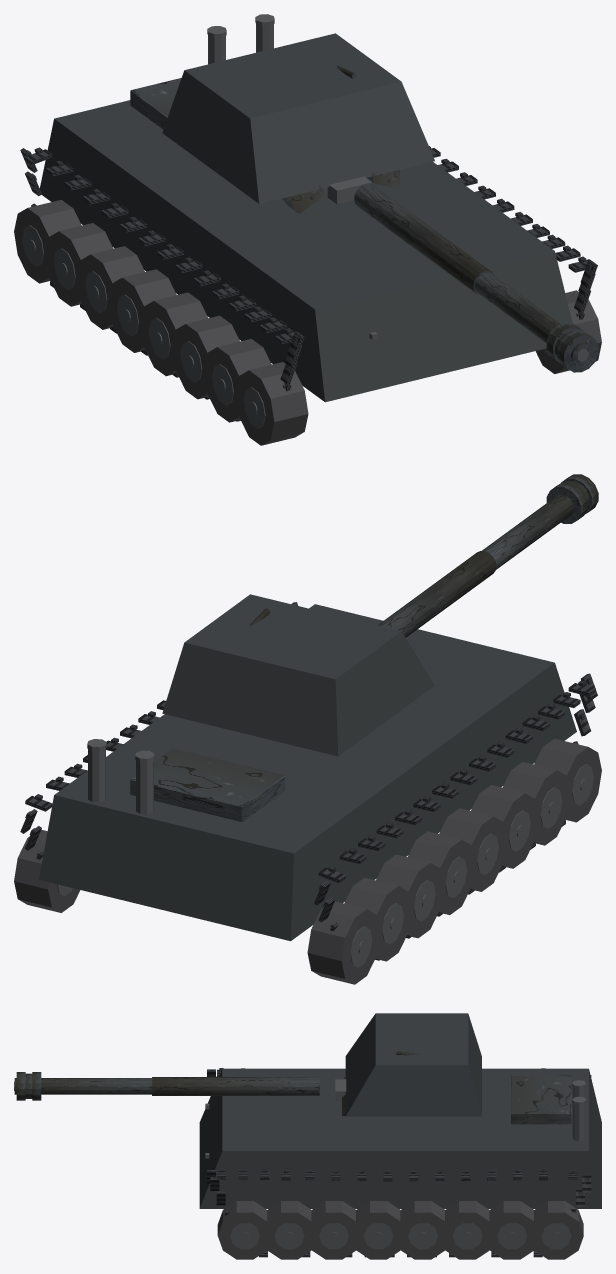
The model's file is ironwolf_LOD1.glb.
The picture shows the model from 3 angles, top to bottom: view 1: azimuth 30°, elevation 25°; view 2: azimuth 150°, elevation 25°; view 3: azimuth 270°, elevation 25°; orthographic projection. The views are drawn at different scales.
Visible parts, largest first — view 1: HullMesh, TurretMesh, Wheels_L, TrackL, Gun_tube1, TrackR, Gun_tube2, Wheels_R, Gun_brk1; view 2: HullMesh, TurretMesh, Wheels_L, TrackL, Gun_tube1, Wheels_R, Gun_tube2, TrackR, exh1, exh-1, Gun_brk2; view 3: HullMesh, Wheels_R, TurretMesh, Gun_tube1, TrackR, Gun_tube2, exh1.
Part boxes in pixels (x1,y1,x2,y2): HullMesh: (40,78,572,402); TurretMesh: (162,33,434,213); Wheels_L: (14,199,308,445); TrackL: (20,147,304,421); Gun_tube1: (354,183,495,295); TrackR: (429,146,597,319); Gun_tube2: (474,272,592,365); Wheels_R: (535,290,601,373); Gun_brk1: (557,330,598,372); HullMesh: (39,604,576,941); TurretMesh: (162,594,434,756); Wheels_L: (307,738,601,984); TrackL: (314,673,597,960); Gun_tube1: (378,551,496,637); Wheels_R: (14,829,80,912); Gun_tube2: (482,494,573,569); TrackR: (20,602,297,859); exh1: (88,749,105,802); exh-1: (136,760,153,814); Gun_brk2: (546,482,587,523); HullMesh: (199,1068,601,1208); Wheels_R: (217,1201,583,1259); TurretMesh: (335,1013,481,1116); Gun_tube1: (152,1077,319,1095); TrackR: (207,1168,591,1257); Gun_tube2: (14,1078,151,1094); exh1: (572,1103,585,1141).
Size of the model in its own units: 4.14 by 2.85 by 9.06.
5 materials, 3 textured.
